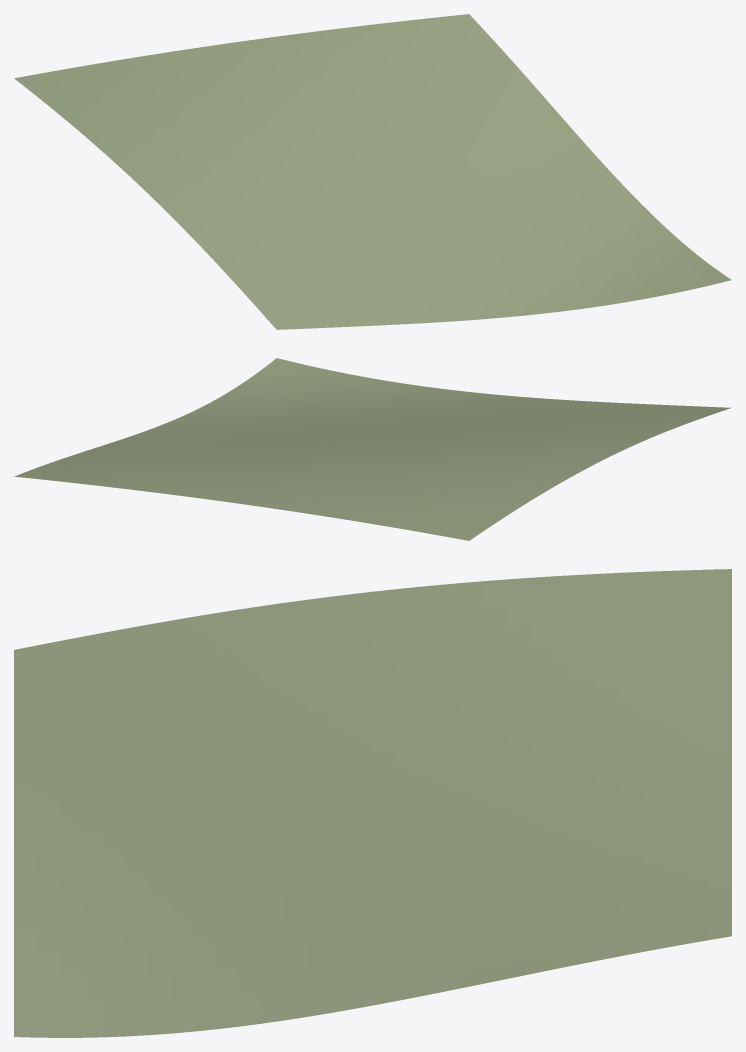
The model's file is expanse-9-21.glb.
3 renders of one model, top to bottom at view 1: azimuth 30°, elevation 25°; view 2: azimuth 150°, elevation 25°; view 3: azimuth 270°, elevation 25°, orthographic. The views are drawn at different scales.
Parts seen in each view (by area): view 1: expanse-9-21; view 2: expanse-9-21; view 3: expanse-9-21.
Boxes of the visible parts, box(x1,y1,x2,y2) form: expanse-9-21: box(14, 14, 731, 329); expanse-9-21: box(14, 358, 731, 540); expanse-9-21: box(14, 569, 731, 1037).
Bounding box in the file's own units: 256 × 65.11 × 256.
